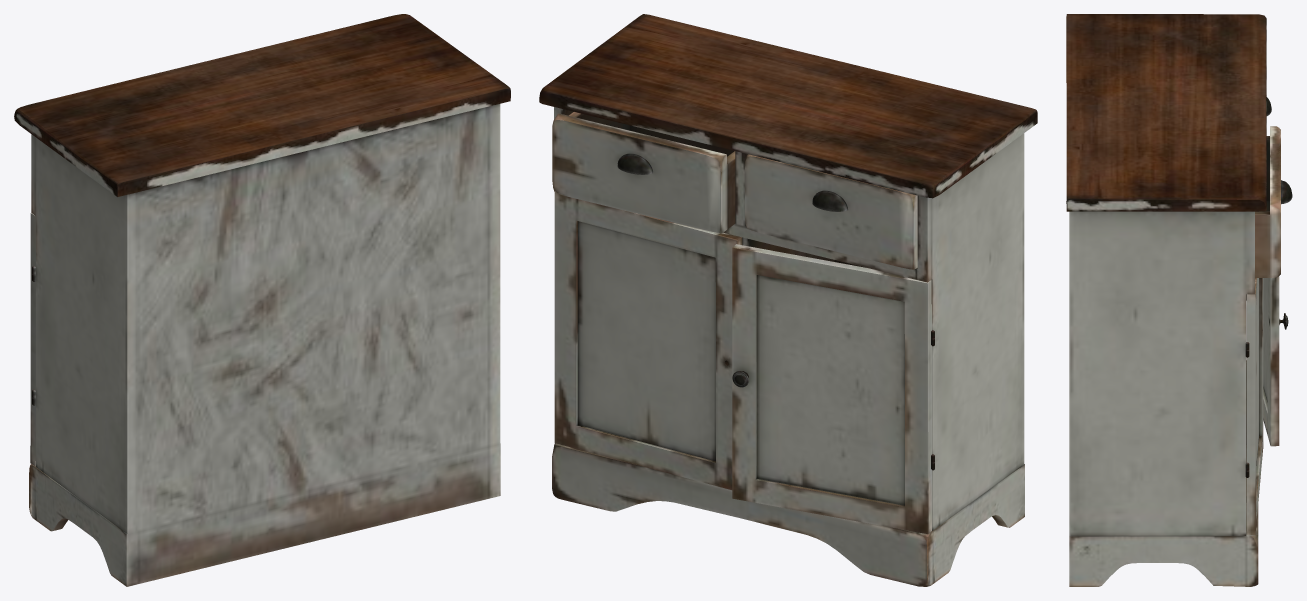
File: cabinet-painted.glb
The picture shows the model from 3 angles, left to right: view 1: azimuth 30°, elevation 25°; view 2: azimuth 150°, elevation 25°; view 3: azimuth 270°, elevation 25°; orthographic projection. The views are drawn at different scales.
Visible parts, largest first — view 1: cabinet-painted; view 2: cabinet-painted; view 3: cabinet-painted.
Boxes of the visible parts, left/top/right/bottom form: cabinet-painted: left=14, top=14, right=510, bottom=586; cabinet-painted: left=539, top=14, right=1037, bottom=586; cabinet-painted: left=1066, top=14, right=1292, bottom=586.
Size of the model in its own units: 1.19 by 1.18 by 0.6166.
Materials: 1 (1 with a texture image).
